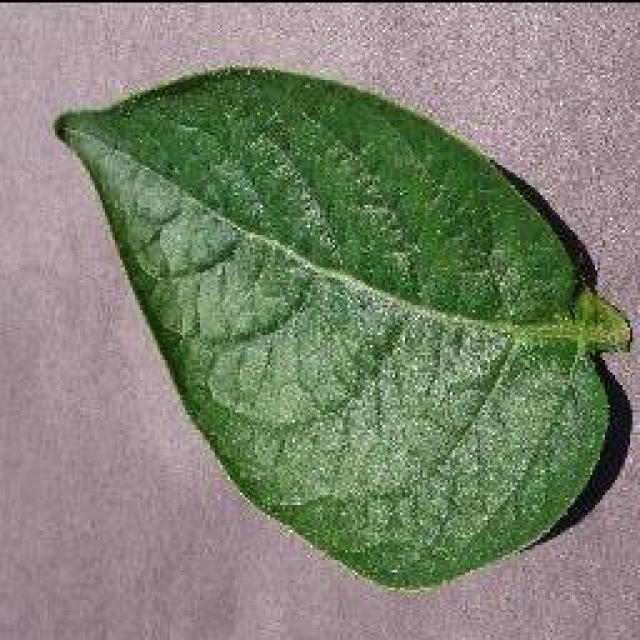Potato___healthy: (51, 64, 637, 590)
